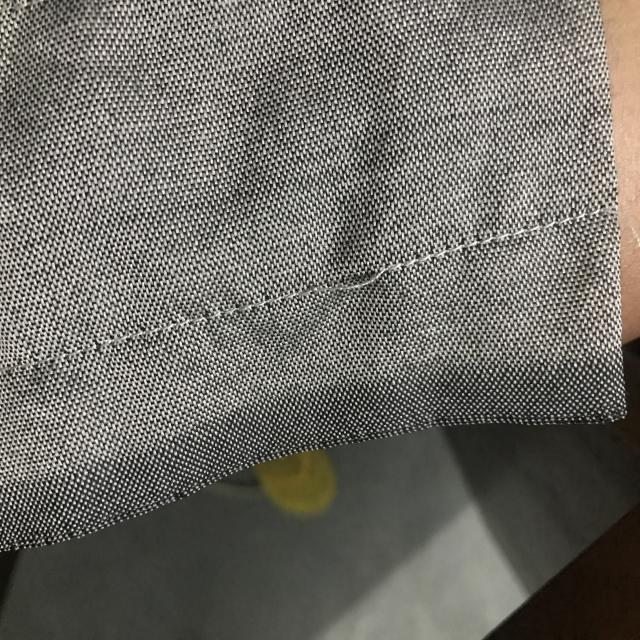skip: (297, 252, 416, 320)
